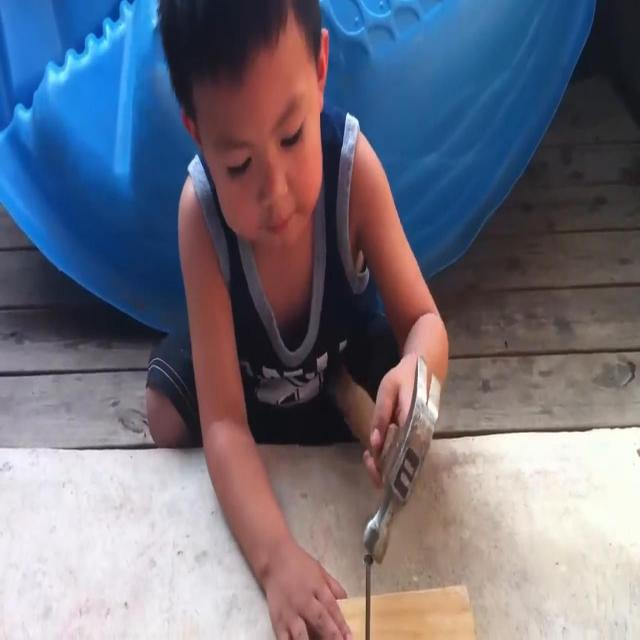hammer: (324, 354, 442, 565)
